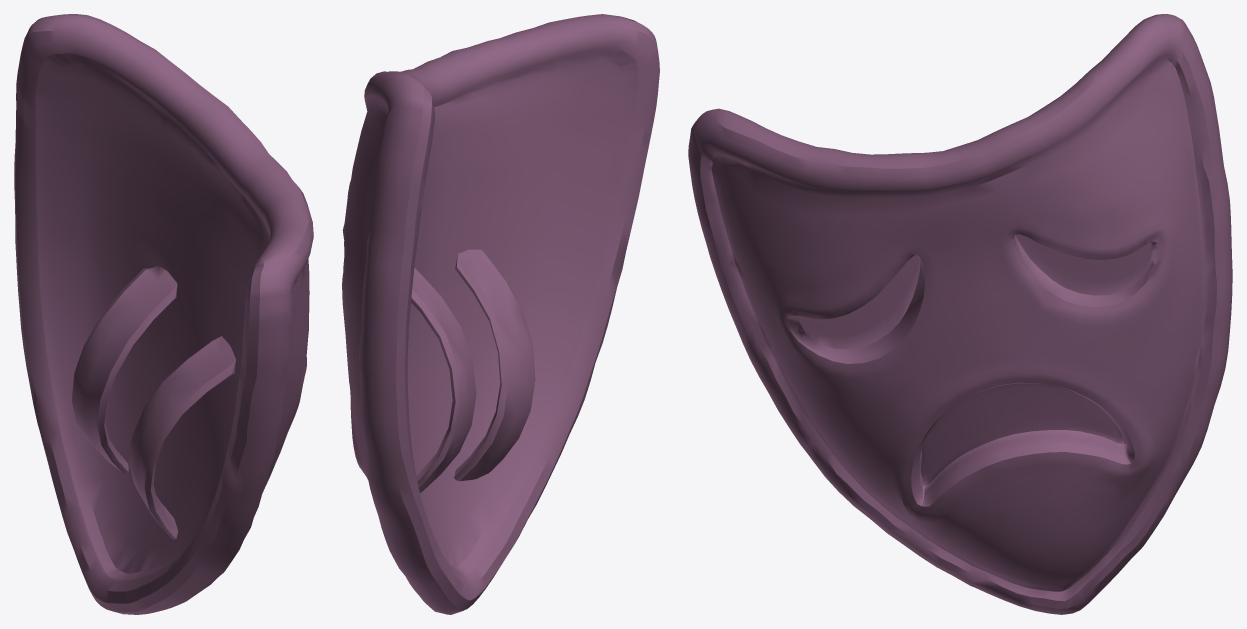
The model's file is SM_Menu_TragedyMask.fbx.
The picture shows the model from 3 angles, left to right: view 1: azimuth 30°, elevation 25°; view 2: azimuth 150°, elevation 25°; view 3: azimuth 270°, elevation 25°; orthographic projection. The views are drawn at different scales.
Visible parts, largest first — view 1: SM_Menu_TragedyMask; view 2: SM_Menu_TragedyMask; view 3: SM_Menu_TragedyMask.
Part boxes in pixels (bbox=[...]): SM_Menu_TragedyMask: bbox=[14, 14, 313, 614]; SM_Menu_TragedyMask: bbox=[342, 14, 659, 614]; SM_Menu_TragedyMask: bbox=[688, 14, 1232, 614].
Size of the model in its own units: 8.83 by 28.17 by 33.76.
